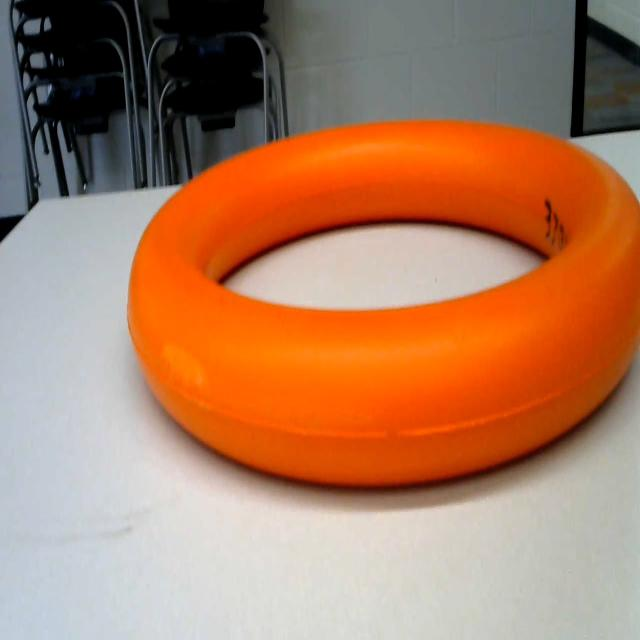note: (114, 104, 640, 567)
